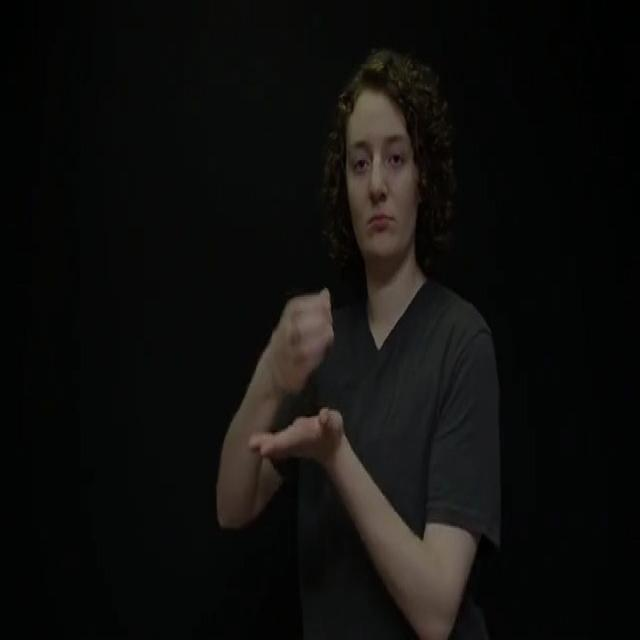cup: (241, 271, 355, 488)
